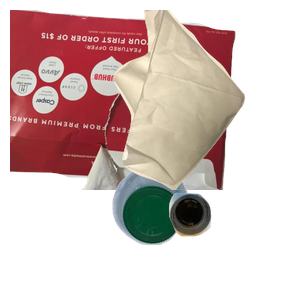glass: (166, 190, 300, 300)
paper: (10, 10, 238, 190)
plastic: (110, 164, 300, 300)
trash: (111, 10, 300, 190)
